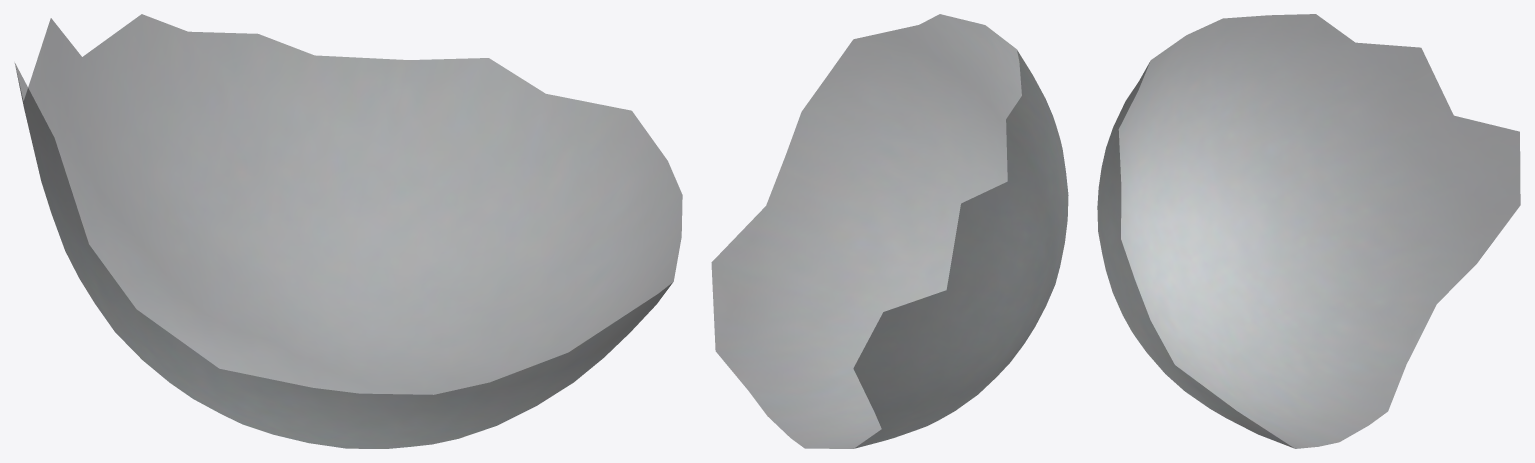
The model's file is Sphere_distfromfocus_0_focuc_210.000001.obj.
The picture shows the model from 3 angles, left to right: view 1: azimuth 30°, elevation 25°; view 2: azimuth 150°, elevation 25°; view 3: azimuth 270°, elevation 25°; orthographic projection. The views are drawn at different scales.
Bounding box in the file's own units: 67.42 × 61.65 × 70.05.
Materials: 1 (1 with a texture image).
